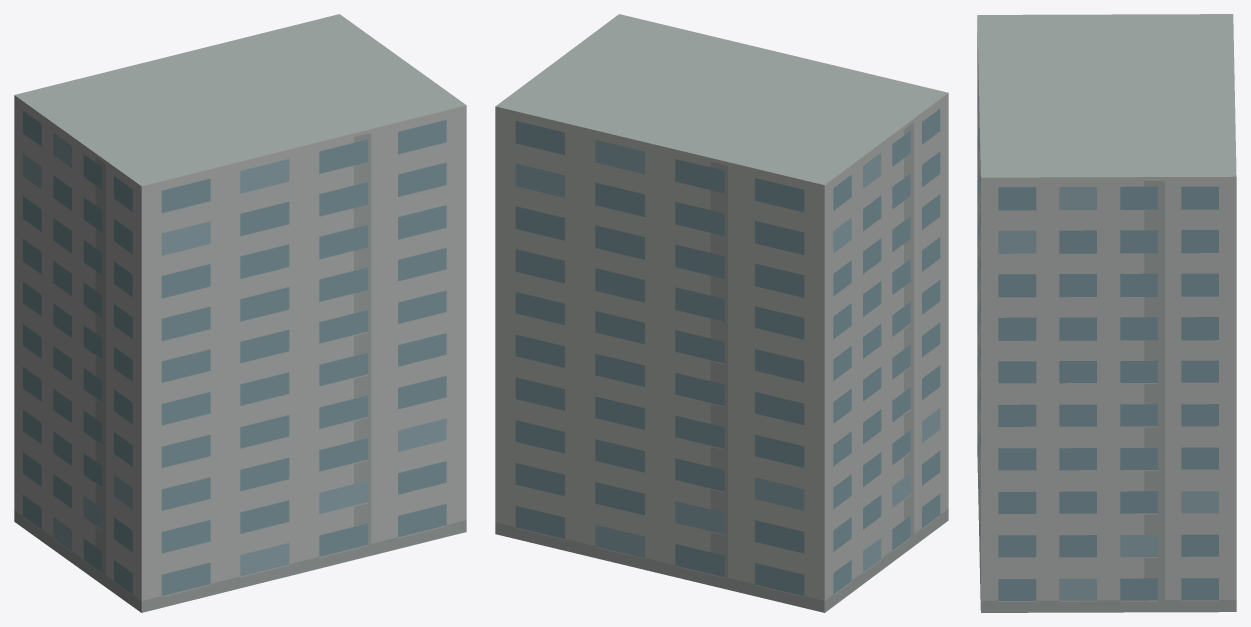
The model's file is residential-f062f376-b882-4452-a89c-ab4071d73a0c.glb.
The picture shows the model from 3 angles, left to right: view 1: azimuth 30°, elevation 25°; view 2: azimuth 150°, elevation 25°; view 3: azimuth 270°, elevation 25°; orthographic projection. The views are drawn at different scales.
Visible parts, largest first — view 1: residential-f062f376-b882-4452-a89c-ab4071d73a0c.tmp; view 2: residential-f062f376-b882-4452-a89c-ab4071d73a0c.tmp; view 3: residential-f062f376-b882-4452-a89c-ab4071d73a0c.tmp.
Part boxes in pixels (x1,y1,x2,y2): residential-f062f376-b882-4452-a89c-ab4071d73a0c.tmp: (14, 14, 466, 612); residential-f062f376-b882-4452-a89c-ab4071d73a0c.tmp: (495, 14, 948, 612); residential-f062f376-b882-4452-a89c-ab4071d73a0c.tmp: (977, 14, 1236, 612).
Size of the model in its own units: 22.59 by 28 by 15.12.
